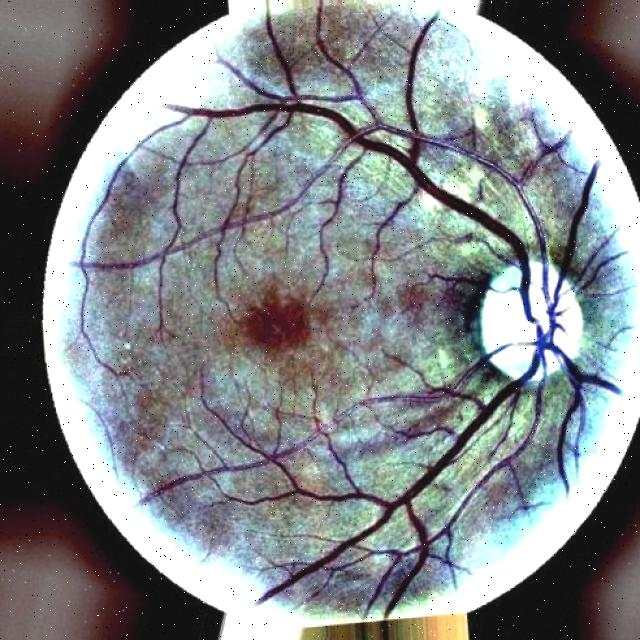Macula: (241, 289, 310, 354)
Nerves: (78, 0, 620, 618)
Optic Disk: (479, 252, 583, 384)
